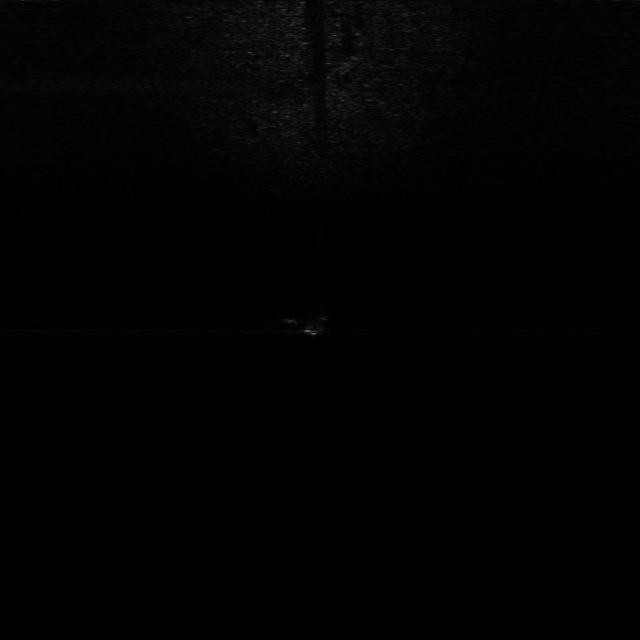human body: (273, 307, 338, 340)
